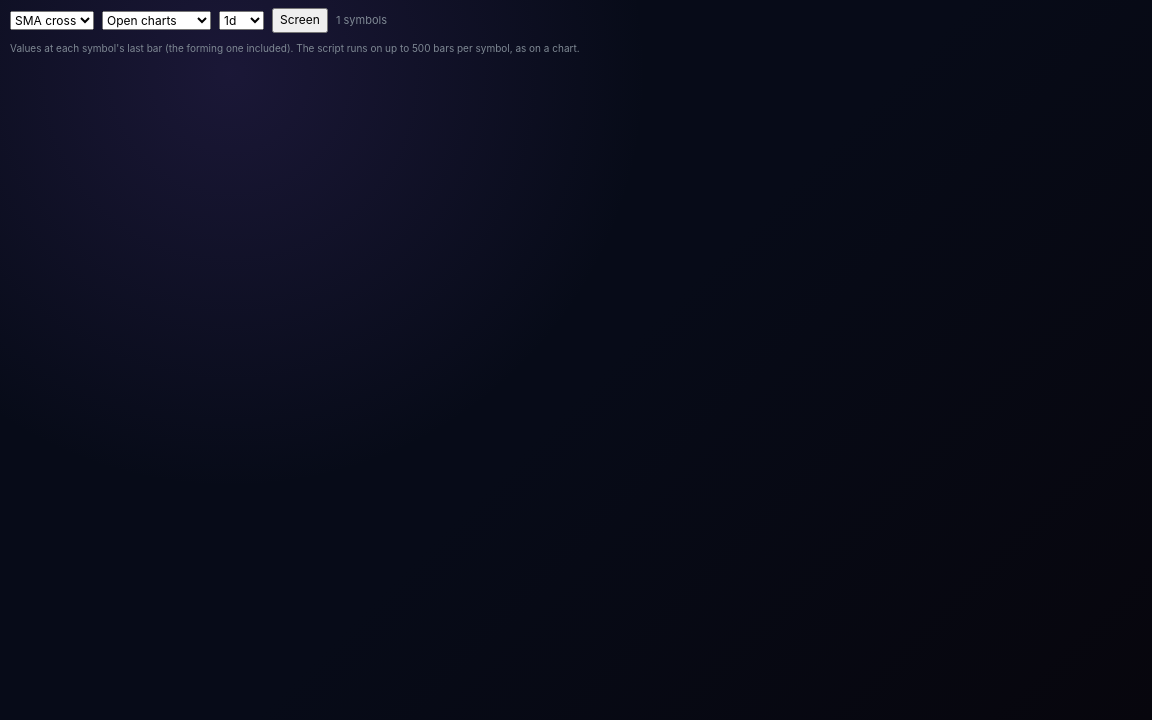
Test: script screener panel (TVP-11.6) › reports a script that does not compile
Click the button "Screen". click: (300, 20)
box: left=272, top=8, right=328, bottom=33
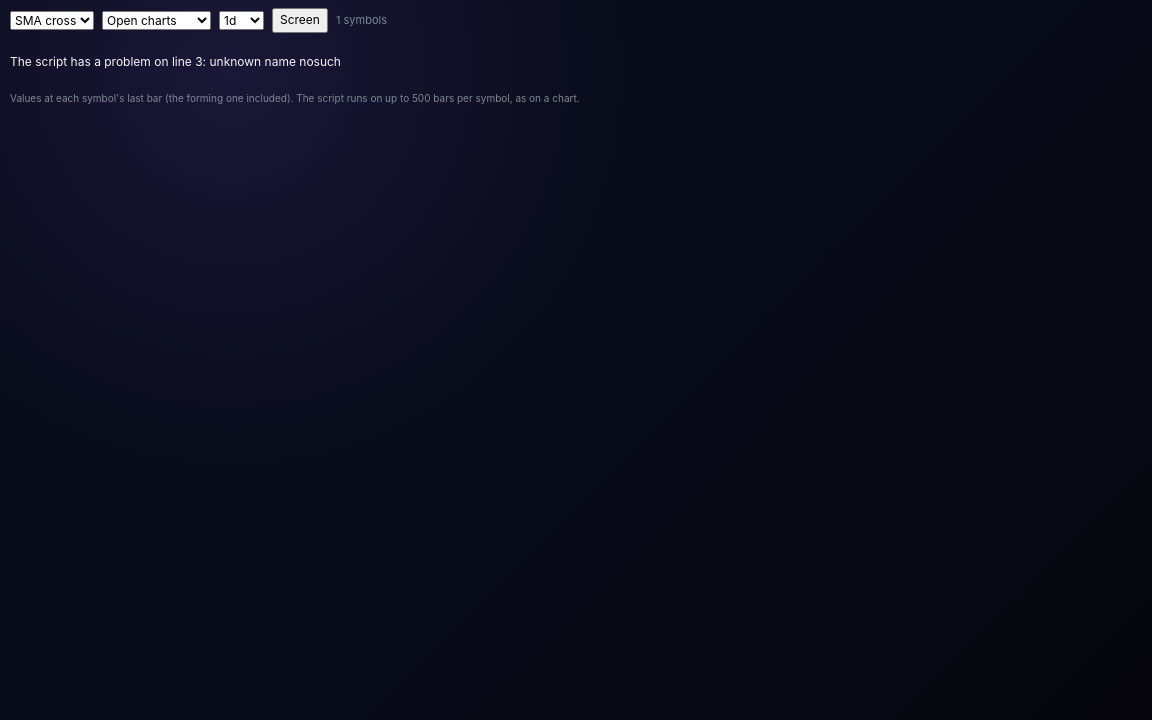
Check: the message reads "The script has a problem on line 3: unknown name nosuch", box left=10, top=54, right=341, bottom=69
